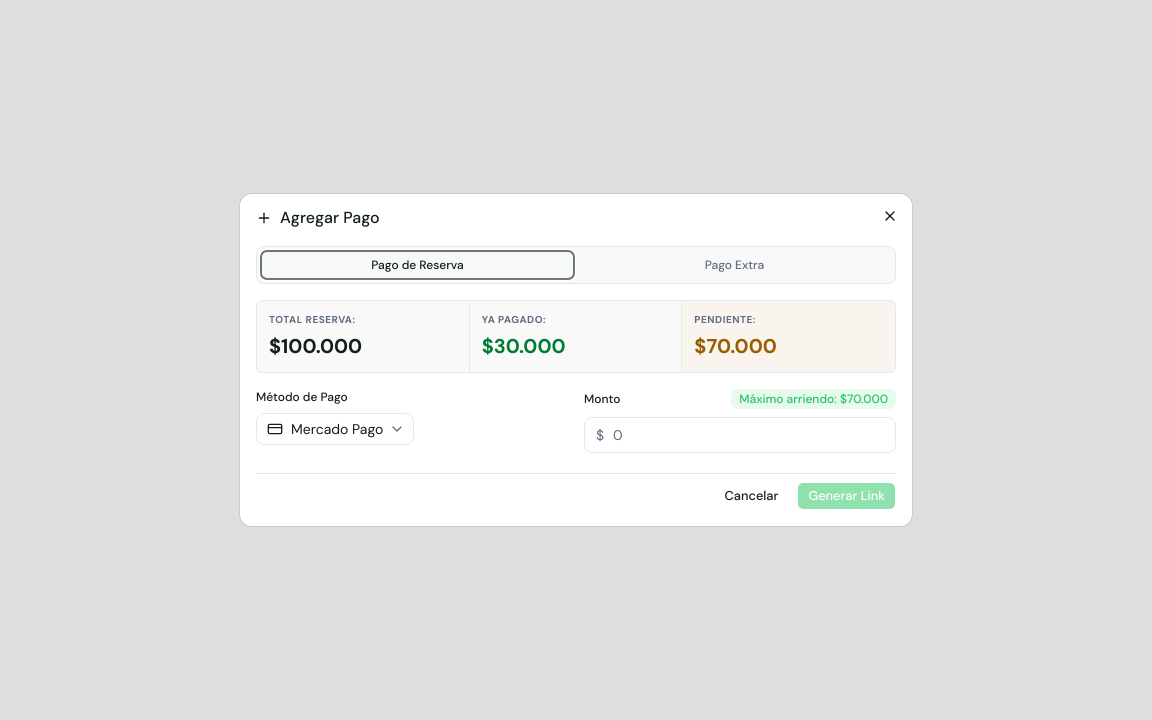
it: AddPaymentDialog - paymentType selector › switches to EXTRA mode and shows title/description, hides max badge
This screenshot has width=1152, height=720.
Click the radio button "Pago Extra": [734, 265] box [578, 251, 891, 279]
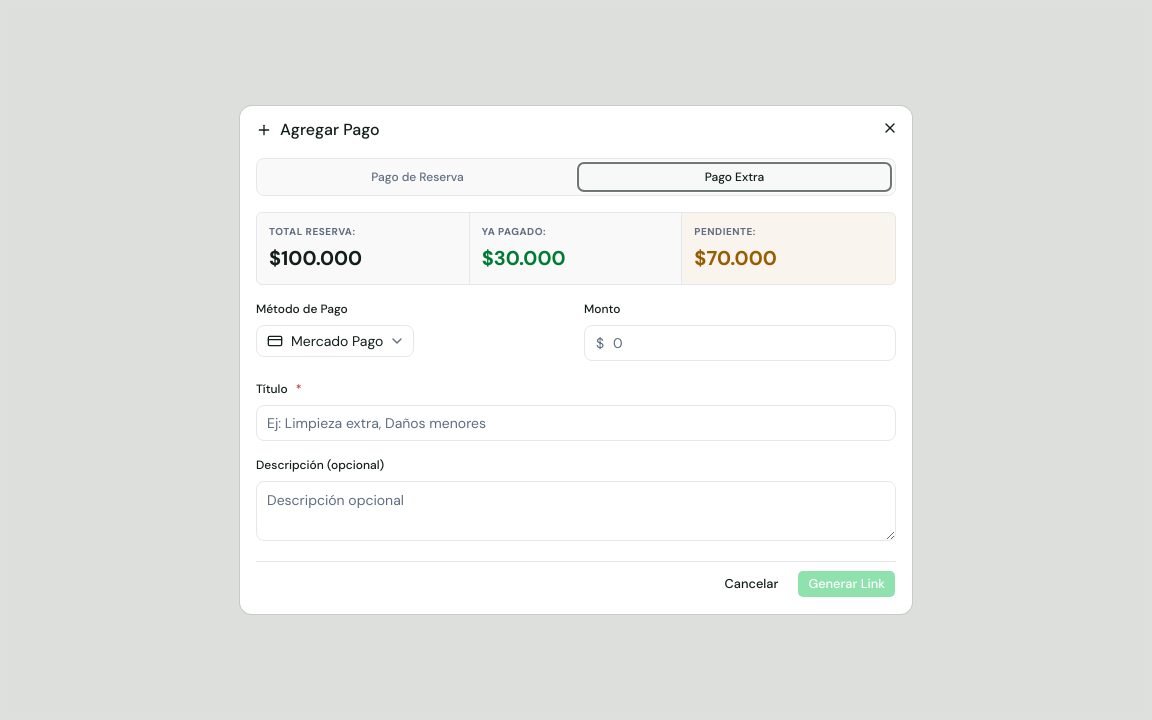
Check: the button "Máximo" is gone
Check: the text "Título" is shown, box [256, 381, 288, 397]
Check: the text "Descripción (opcional)" is shown, box [256, 457, 384, 473]
